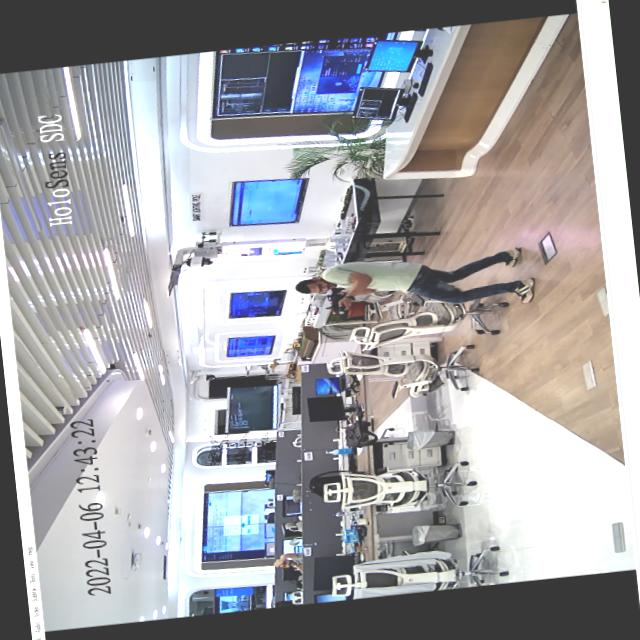long weapon: (313, 281, 365, 323)
